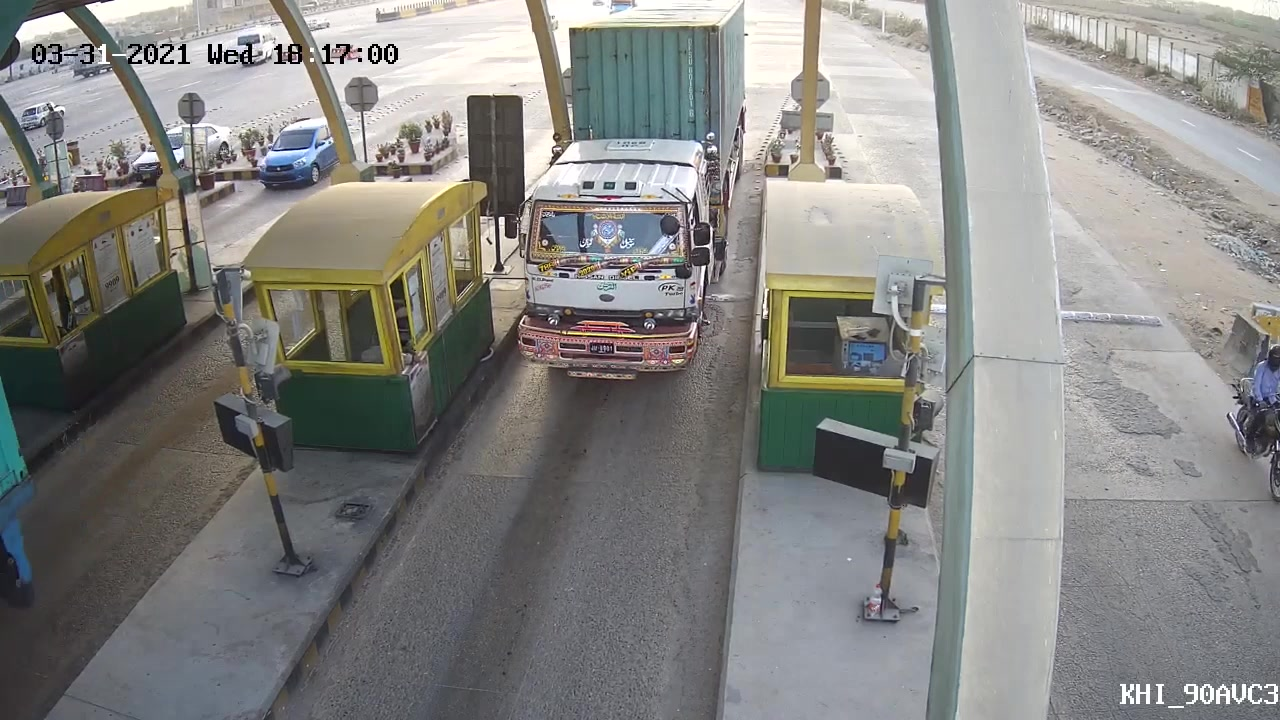F6: (497, 32, 762, 387)
